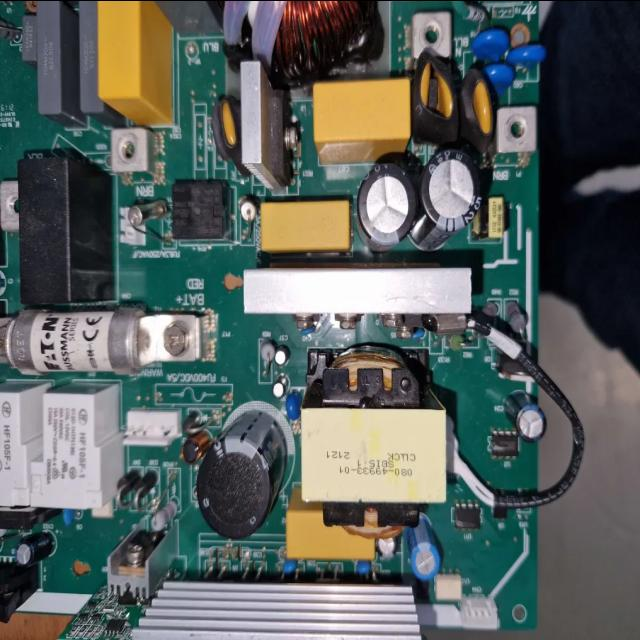B: (210, 0, 377, 82), (0, 310, 203, 369)
C: (199, 414, 287, 538), (416, 147, 482, 245), (354, 164, 416, 253)
